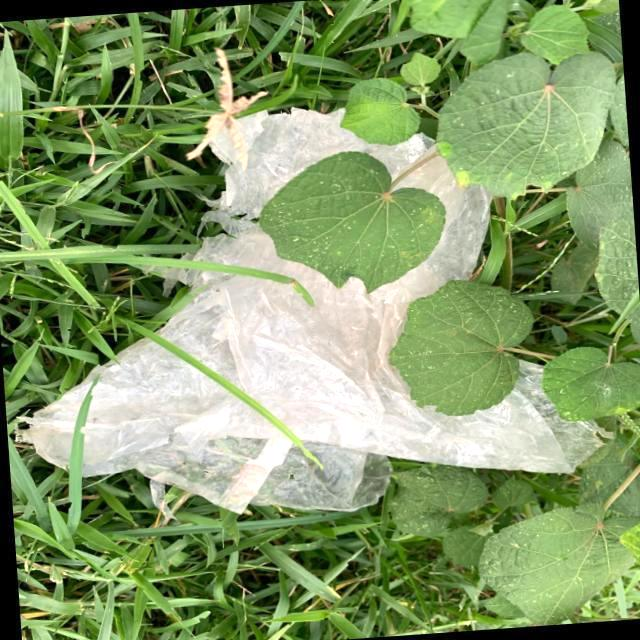polythene: (20, 88, 621, 534)
